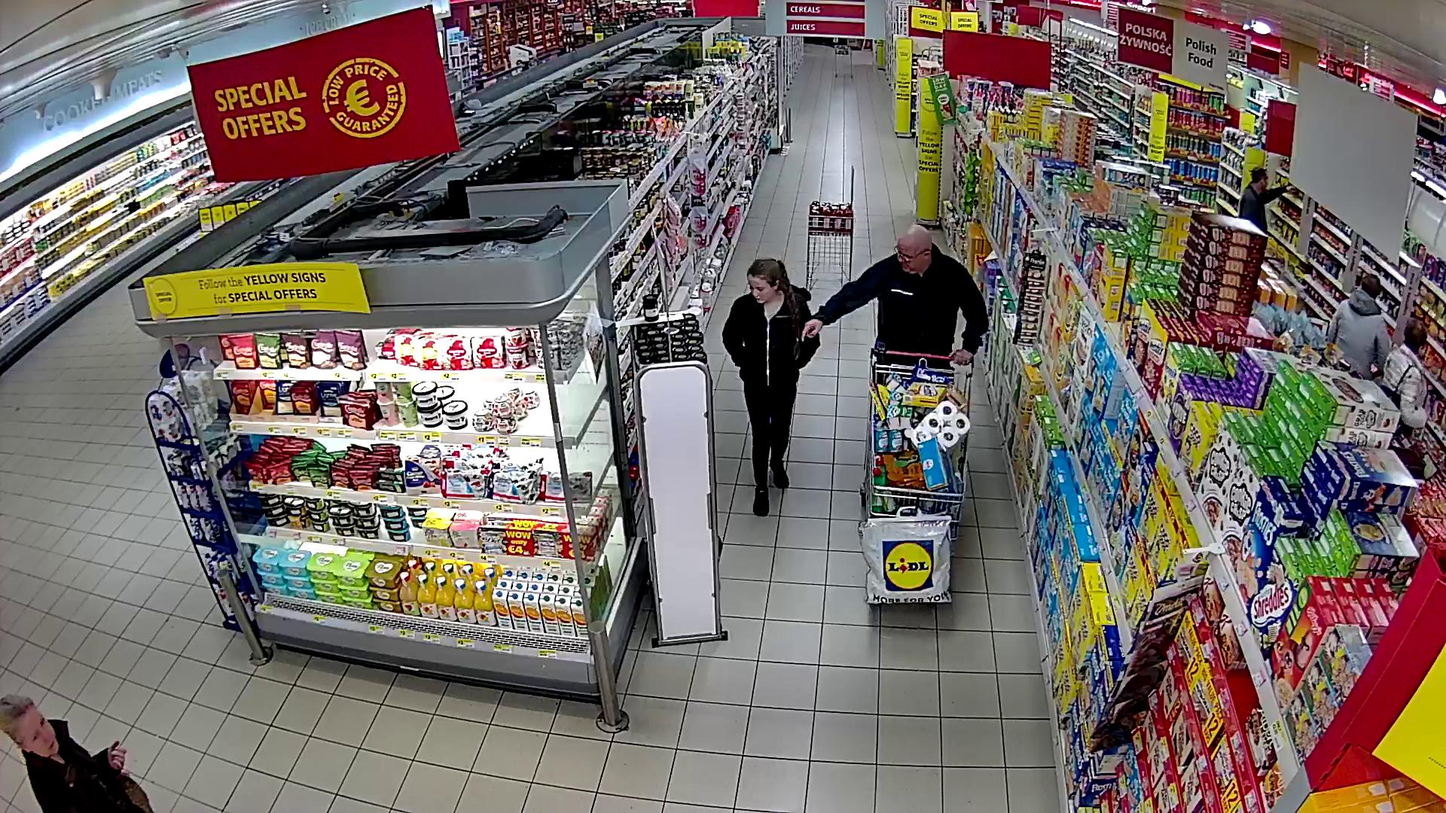filled-shopping-bags: (860, 511, 956, 607)
filled-trolly: (859, 343, 975, 529)
person: (801, 226, 988, 365)
person-with-basket-trolly-and-shopping-bag: (801, 226, 989, 610)
